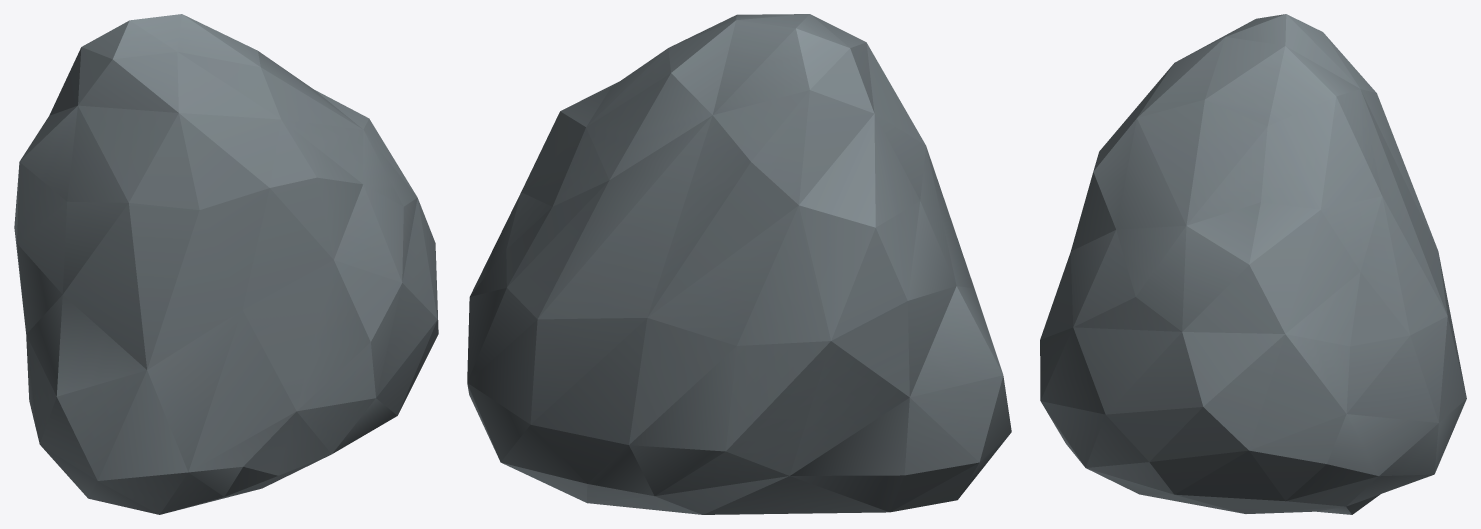
File: kf_rock_3_g.fbx
3 views of the same model, side by side, from view 1: azimuth 30°, elevation 25°; view 2: azimuth 150°, elevation 25°; view 3: azimuth 270°, elevation 25° (orthographic). The views are drawn at different scales.
Visible parts, largest first — view 1: kf_rock_3_g; view 2: kf_rock_3_g; view 3: kf_rock_3_g.
Boxes of the visible parts, box(x1,y1,x2,y2) form: kf_rock_3_g: box(14, 14, 438, 514); kf_rock_3_g: box(467, 14, 1011, 514); kf_rock_3_g: box(1040, 14, 1466, 514).
Size of the model in its own units: 4.47 by 4.8 by 4.16.
